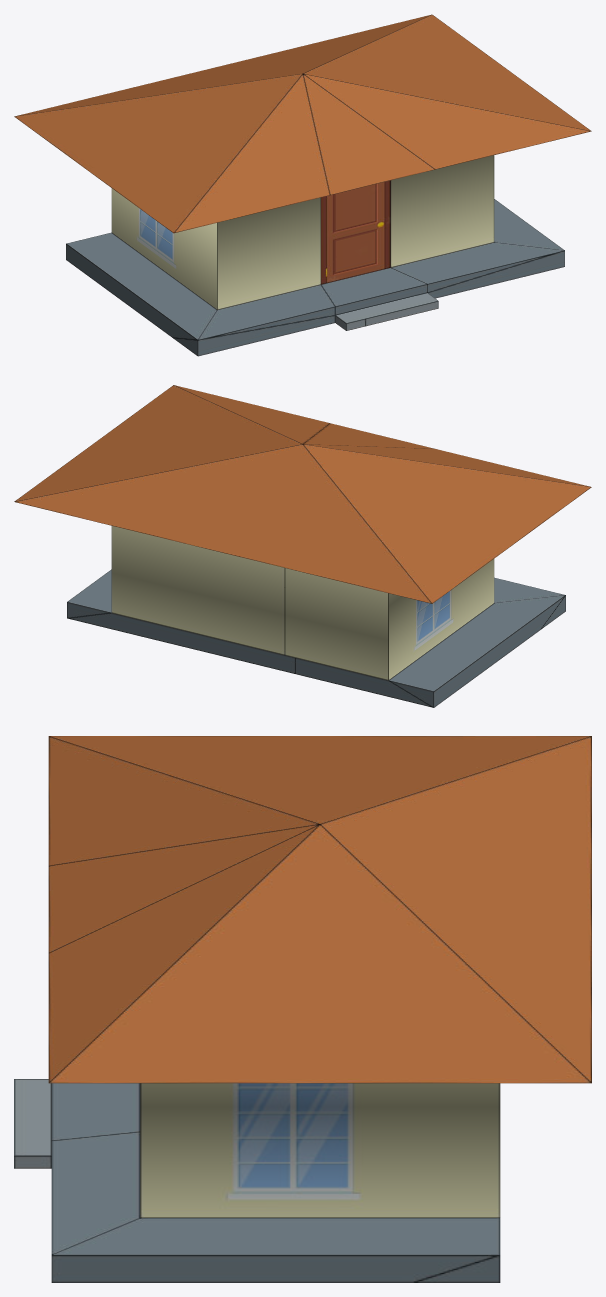
File: casita.fbx
The picture shows the model from 3 angles, top to bottom: view 1: azimuth 30°, elevation 25°; view 2: azimuth 150°, elevation 25°; view 3: azimuth 270°, elevation 25°; orthographic projection. The views are drawn at different scales.
Parts seen in each view (by area): view 1: casita; view 2: casita; view 3: casita.
Boxes of the visible parts, x1,y1,x2,y2 form: casita: (14,14,591,356); casita: (14,385,591,707); casita: (14,736,591,1282).
Size of the model in its own units: 181 by 74.68 by 128.
1 material, 1 textured.
